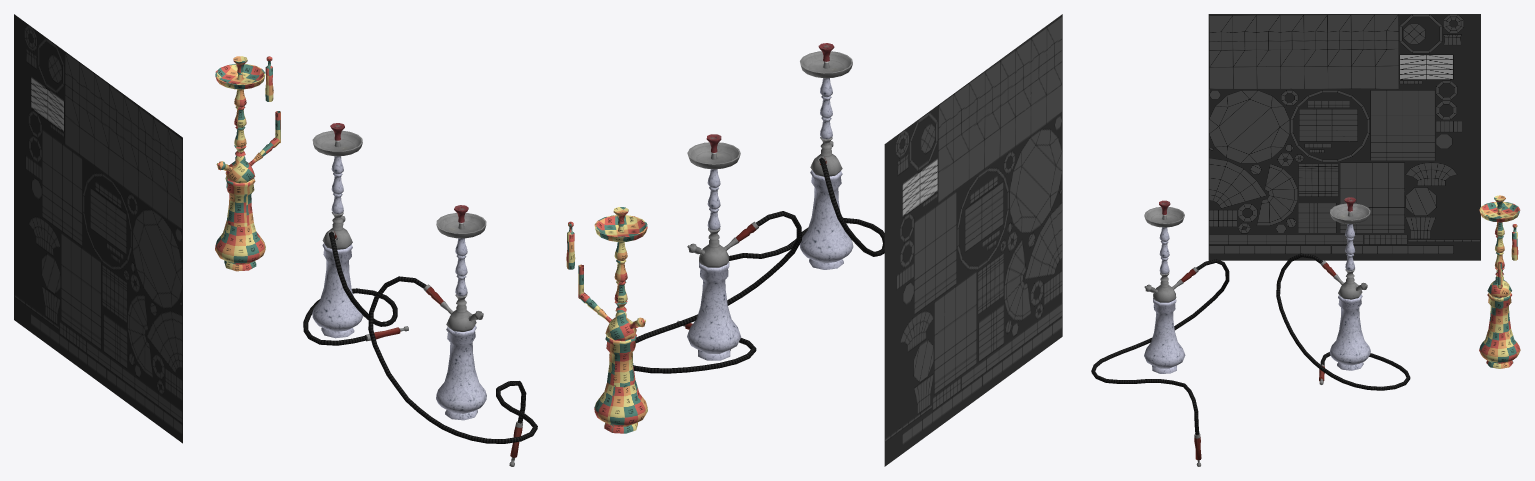
3 views of the same model, side by side, from view 1: azimuth 30°, elevation 25°; view 2: azimuth 150°, elevation 25°; view 3: azimuth 270°, elevation 25° (orthographic). The views are drawn at different scales.
Parts seen in each view (by area): view 1: Plane, Down.004, Down.005, Down.006; view 2: Plane, Down.005, Down.004, Down.006; view 3: Plane, Down.004, Down.005, Down.006.
Part boxes in pixels (x1,y1,x2,y2): Plane: (14,14,182,443); Down.004: (368,205,537,466); Down.005: (303,123,408,345); Down.006: (215,56,280,271); Plane: (884,14,1062,466); Down.005: (633,134,801,373); Down.004: (729,43,884,350); Down.006: (566,207,647,433); Plane: (1208,14,1480,260); Down.004: (1091,200,1229,466); Down.005: (1276,197,1410,390); Down.006: (1479,195,1520,368).
Bounding box in the file's own units: 124 × 143 × 171.
Materials: 3 (3 with a texture image).
